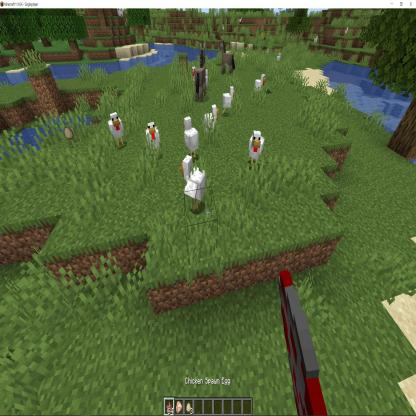minecraft-pigs: (219, 101, 268, 190)
